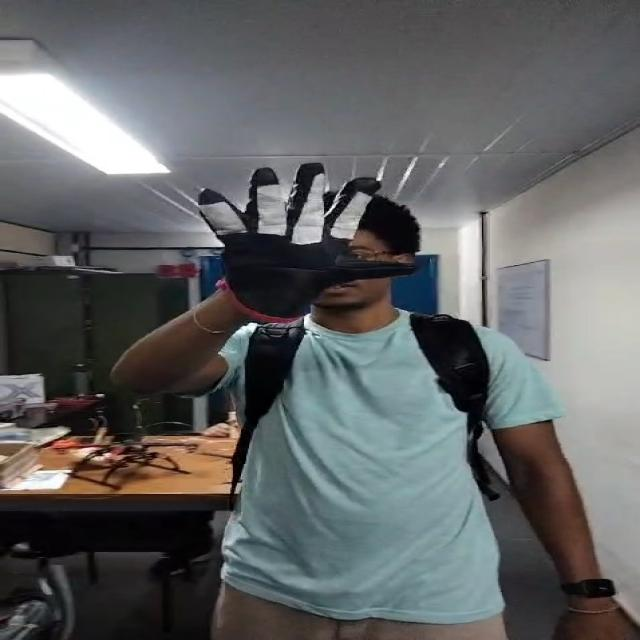Gloves: (194, 158, 419, 311)
